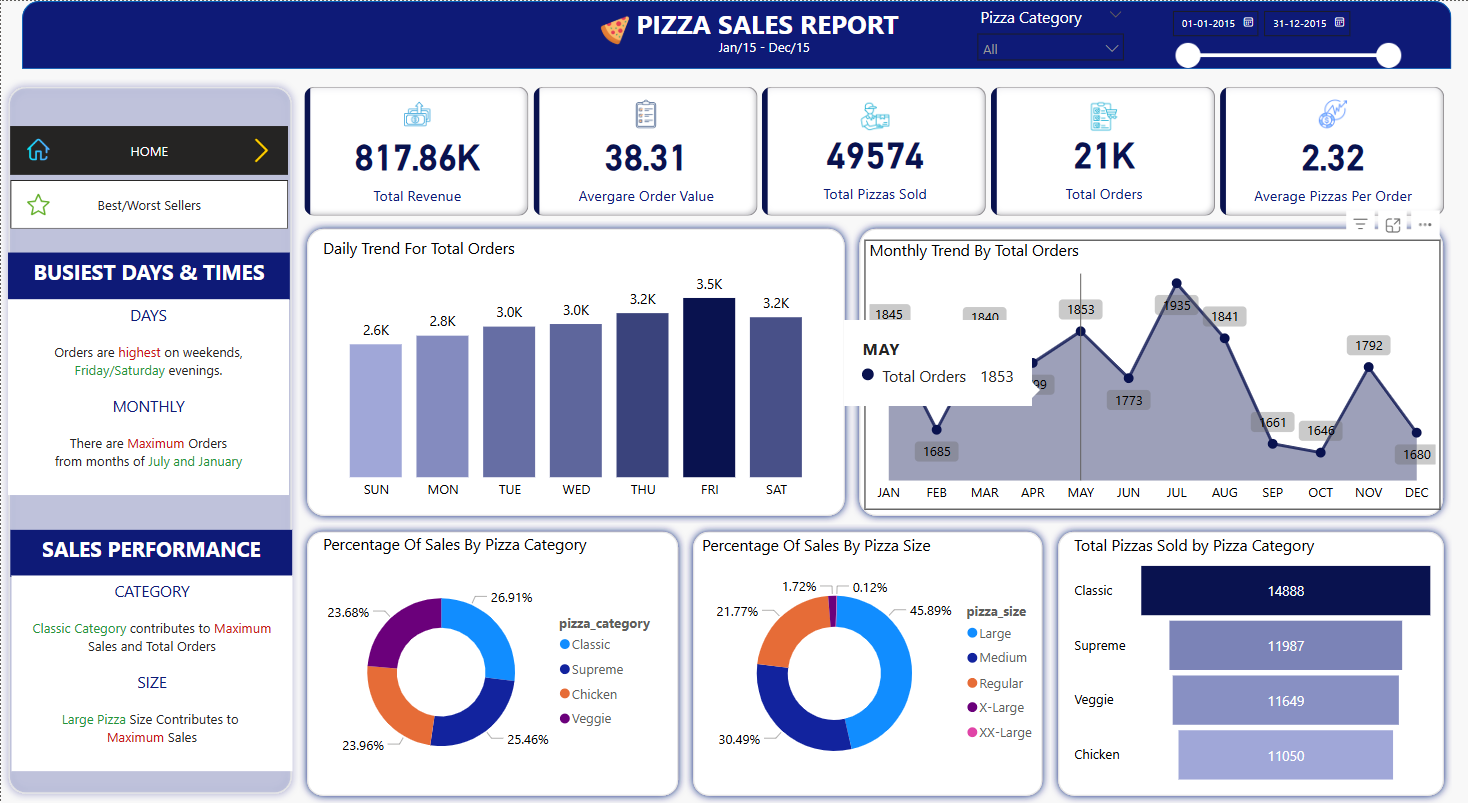

What the dashboard file says about the page in this screenshot:
{"tool":"powerbi","page":{"name":"HOME","canvas":[1500,820],"ordinal":0},"visuals":[{"type":"cardVisual","fields":{"Data":["pizza_sales.Total Revenue","pizza_sales.Avergare Order Value","pizza_sales.Total Pizzas Sold","pizza_sales.Total Orders","pizza_sales.Average Pizzas Per Order"]},"box":[304.4,82,1177.8,142.9],"z":0},{"type":"shape","box":[21.1,0,1461.1,69.6],"z":1000},{"type":"textbox","box":[632.4,0,301.9,46],"z":2000},{"type":"textbox","box":[728.1,32.3,114.3,34.8],"z":3000},{"type":"image","box":[607.5,5,39.8,49.7],"z":4000},{"type":"shape","box":[304.4,224.9,565.3,309.4],"z":5000},{"type":"columnChart","title":"Daily Trend For Total Orders","fields":{"Category":["pizza_sales.Order day"],"Y":["pizza_sales.Total Orders"]},"box":[324.3,241,528,277.1],"z":6000},{"type":"shape","box":[869.7,224.9,612.5,309.4],"z":7000},{"type":"areaChart","title":"Monthly Trend By Total Orders","fields":{"Y":["pizza_sales.Total Orders"],"Category":["pizza_sales.Order Month"]},"box":[882.1,243.5,588.9,277.1],"z":8000},{"type":"shape","box":[304.4,534.2,395.1,285.8],"z":9000},{"type":"shape","box":[1072.2,534.2,410,285.8],"z":10000},{"type":"shape","box":[699.5,534.2,372.7,285.8],"z":11000},{"type":"donutChart","title":"Percentage Of Sales By Pizza Category","fields":{"Category":["pizza_sales.pizza_category"],"Y":["pizza_sales.Total Revenue"]},"box":[324.3,544.2,360.3,262.1],"z":12000},{"type":"donutChart","title":"Percentage Of Sales By Pizza Size","fields":{"Category":["pizza_sales.pizza_size"],"Y":["pizza_sales.Total Revenue"]},"box":[711.9,545.4,360.3,262.1],"z":13000},{"type":"shape","box":[0,80.1,304.9,737.8],"z":14000},{"type":"funnel","title":"Total Pizzas Sold by Pizza Category","fields":{"Category":["pizza_sales.pizza_category"],"Y":["pizza_sales.Total Pizzas Sold"]},"box":[1092.1,545.4,378.9,260.9],"z":15000},{"type":"slicer","fields":{"Values":["pizza_sales.pizza_category"]},"box":[987.7,0,170.2,69.6],"z":16000},{"type":"slicer","fields":{"Values":["pizza_sales.order_date"]},"box":[1185.3,0,254.7,82],"z":17000},{"type":"pageNavigator","box":[9.6,128,284.6,50.2],"z":18000},{"type":"pageNavigator","box":[9.6,183,284.6,50.2],"z":19000},{"type":"image","box":[248.7,135.1,34.7,34.7],"z":20000},{"type":"image","box":[21.5,191.3,33.5,33.5],"z":21000},{"type":"image","box":[21.5,135.1,33.5,33.5],"z":22000},{"type":"textbox","box":[7.2,257.1,288.2,47.8],"z":23000},{"type":"textbox","box":[9.6,540.5,288.2,47.8],"z":24000},{"type":"textbox","box":[7.2,304.9,287,199.7],"z":25000},{"type":"textbox","box":[10.8,587.2,287,199.7],"z":26000}]}

Visuals, with their boxes in screenshot pixels (x1, y1, x2, y2), scaled from the page's 1500x820 canvas onto the 1468x803 screenshot:
cardVisual - pizza_sales.Total Revenue x pizza_sales.Avergare Order Value: box(298, 80, 1451, 220)
shape: box(21, 0, 1451, 68)
textbox: box(619, 0, 914, 45)
textbox: box(713, 32, 824, 66)
image: box(595, 5, 633, 54)
shape: box(298, 220, 851, 523)
"Daily Trend For Total Orders" columnChart: box(317, 236, 834, 507)
shape: box(851, 220, 1451, 523)
"Monthly Trend By Total Orders" areaChart: box(863, 238, 1440, 510)
shape: box(298, 523, 685, 802)
shape: box(1049, 523, 1451, 802)
shape: box(685, 523, 1049, 802)
"Percentage Of Sales By Pizza Category" donutChart: box(317, 533, 670, 790)
"Percentage Of Sales By Pizza Size" donutChart: box(697, 534, 1049, 791)
shape: box(0, 78, 298, 801)
"Total Pizzas Sold by Pizza Category" funnel: box(1069, 534, 1440, 790)
slicer - pizza_sales.pizza_category: box(967, 0, 1133, 68)
slicer - pizza_sales.order_date: box(1160, 0, 1409, 80)
pageNavigator: box(9, 125, 288, 175)
pageNavigator: box(9, 179, 288, 228)
image: box(243, 132, 277, 166)
image: box(21, 187, 54, 220)
image: box(21, 132, 54, 165)
textbox: box(7, 252, 289, 299)
textbox: box(9, 529, 291, 576)
textbox: box(7, 299, 288, 494)
textbox: box(11, 575, 291, 771)
